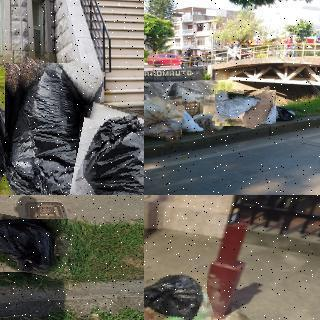Garbage: (0, 60, 97, 195), (69, 105, 144, 195), (0, 215, 70, 275), (144, 266, 210, 320), (144, 93, 183, 140), (214, 92, 260, 128), (242, 89, 278, 127), (268, 104, 299, 123)
